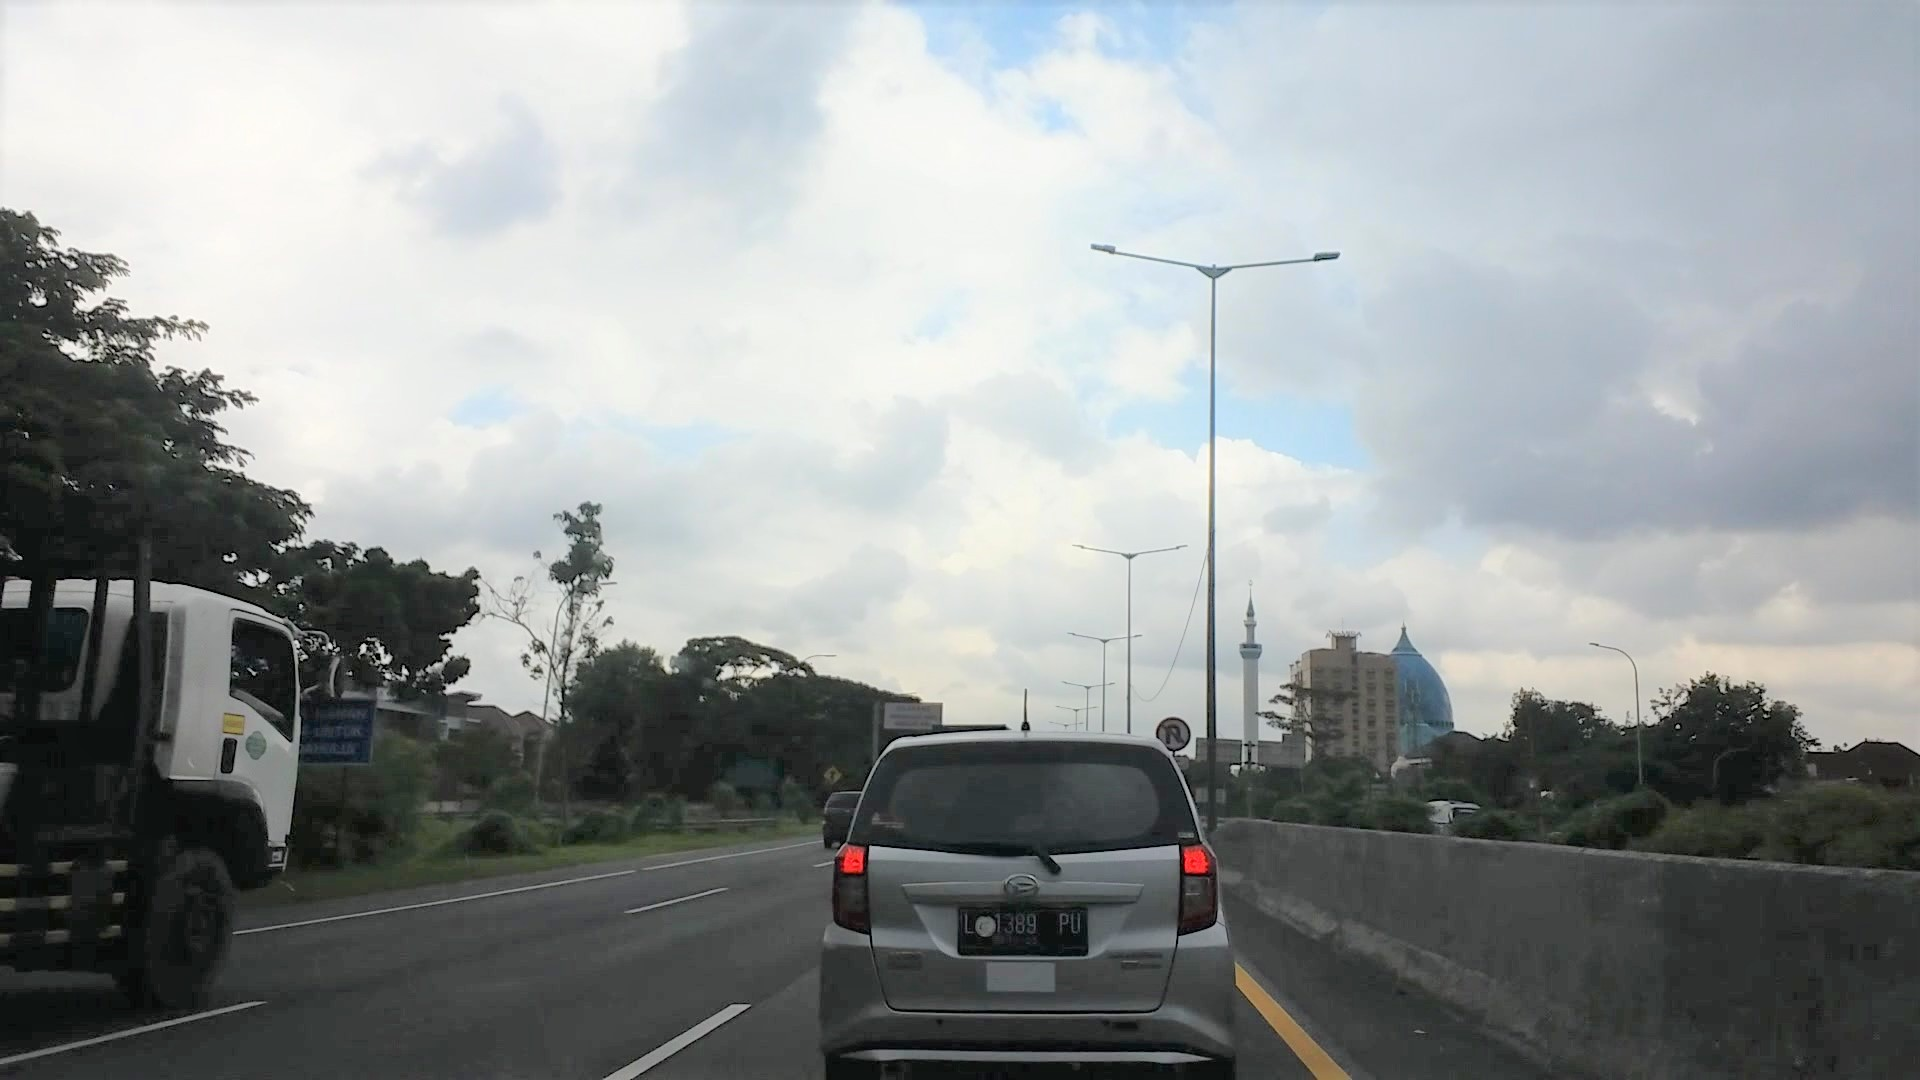plate_positive: (957, 905, 1089, 956)
